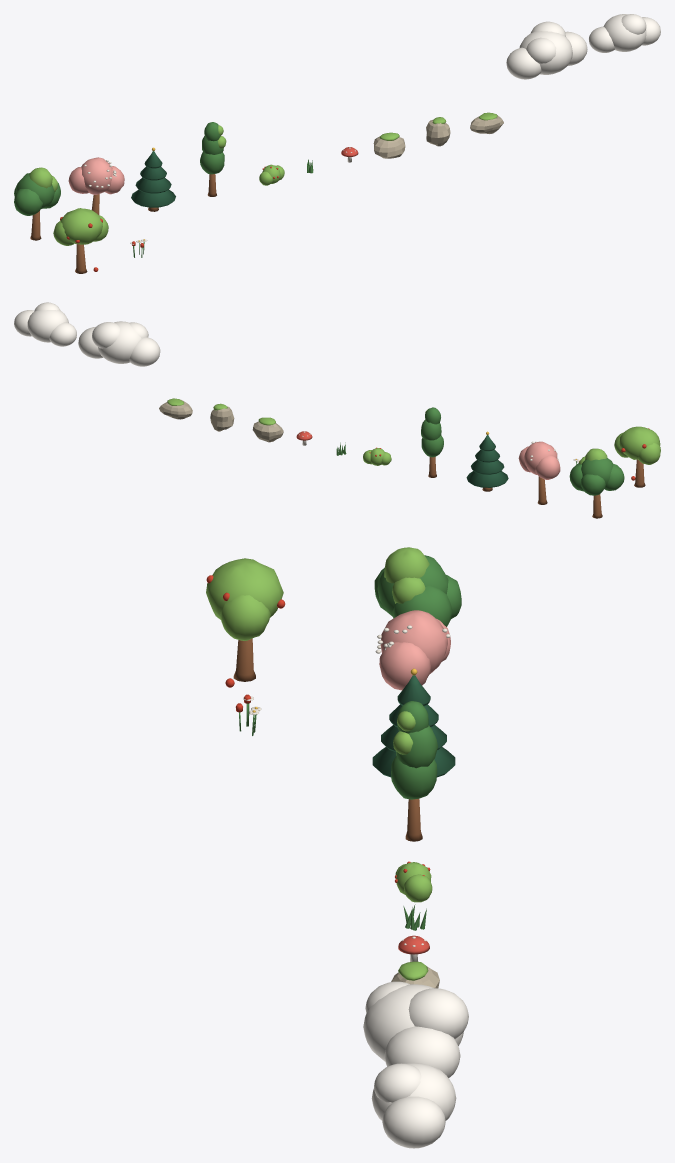
File: nature.glb
3 renders of one model, top to bottom at view 1: azimuth 30°, elevation 25°; view 2: azimuth 150°, elevation 25°; view 3: azimuth 270°, elevation 25°, orthographic. The views are drawn at different scales.
Parts seen in each view (by area): view 1: Cloud_0_Puffs, Cloud_1_Puffs, Tree_Apple_Crown, Tree_Blossom_Crown, Tree_Pine_Crown, Tree_Round_Crown, Tree_Tall_Crown, Rock_0_Stone, Rock_1_Stone, Rock_2_Stone, Tree_Round_Light, Bush_Leaves; view 2: Cloud_0_Puffs, Cloud_1_Puffs, Tree_Round_Crown, Tree_Apple_Crown, Tree_Pine_Crown, Tree_Blossom_Crown, Tree_Tall_Crown, Rock_1_Stone, Rock_0_Stone, Rock_2_Stone, Bush_Leaves; view 3: Cloud_0_Puffs, Cloud_1_Puffs, Tree_Apple_Crown, Tree_Blossom_Crown, Tree_Tall_Crown, Tree_Round_Crown, Tree_Pine_Crown, Tree_Round_Light, Bush_Leaves.
Boxes of the visible parts, x1,y1,x2,y2 form: Cloud_0_Puffs: (506, 21, 587, 79); Cloud_1_Puffs: (589, 14, 660, 52); Tree_Apple_Crown: (53, 208, 108, 245); Tree_Blossom_Crown: (68, 157, 124, 194); Tree_Pine_Crown: (131, 151, 175, 207); Tree_Round_Crown: (14, 173, 60, 215); Tree_Tall_Crown: (200, 122, 224, 174); Rock_0_Stone: (373, 136, 405, 158); Rock_1_Stone: (426, 120, 450, 146); Rock_2_Stone: (470, 115, 503, 133); Tree_Round_Light: (29, 167, 57, 191); Bush_Leaves: (259, 164, 284, 185); Cloud_0_Puffs: (78, 321, 160, 366); Cloud_1_Puffs: (14, 302, 76, 346); Tree_Round_Crown: (569, 458, 624, 495); Tree_Apple_Crown: (614, 426, 660, 464); Tree_Pine_Crown: (466, 435, 508, 487); Tree_Blossom_Crown: (518, 441, 560, 479); Tree_Tall_Crown: (421, 407, 443, 457); Rock_1_Stone: (210, 406, 234, 431); Rock_0_Stone: (252, 421, 283, 442); Rock_2_Stone: (159, 399, 192, 419); Bush_Leaves: (363, 448, 391, 465); Cloud_0_Puffs: (363, 981, 468, 1077); Cloud_1_Puffs: (371, 1063, 456, 1148); Tree_Apple_Crown: (206, 558, 283, 640); Tree_Blossom_Crown: (379, 610, 450, 690); Tree_Tall_Crown: (391, 701, 437, 799); Tree_Round_Crown: (374, 555, 461, 626); Tree_Pine_Crown: (372, 675, 455, 777); Tree_Round_Light: (384, 547, 429, 603); Bush_Leaves: (395, 862, 432, 902).
Size of the model in its own units: 32.95 by 4.39 by 6.22.
